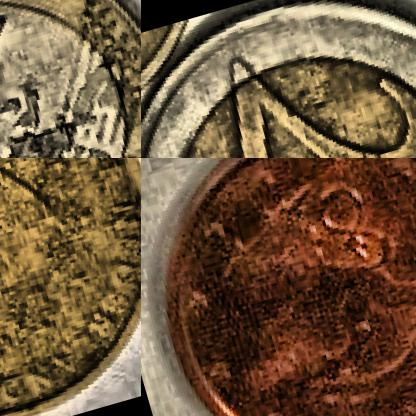coin: (141, 158, 415, 415), (141, 0, 415, 157), (0, 158, 140, 415), (0, 0, 140, 157)
